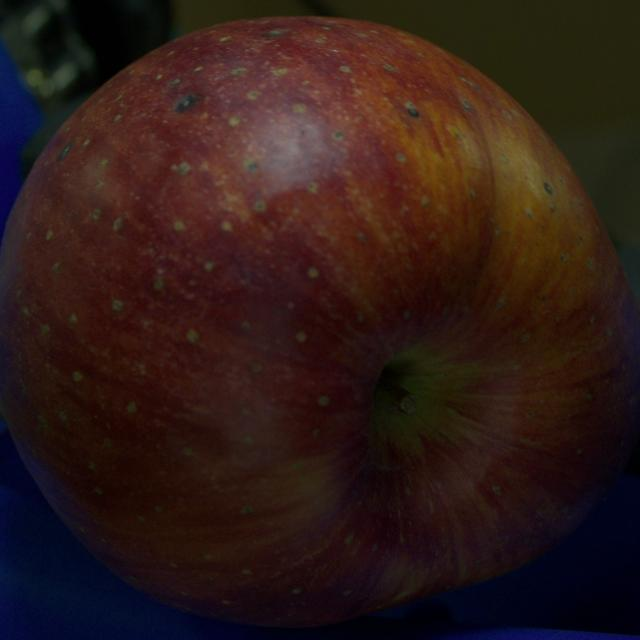apple: (0, 18, 639, 625)
pest: (174, 94, 198, 112), (263, 29, 285, 37), (408, 107, 419, 116), (545, 182, 552, 194)
